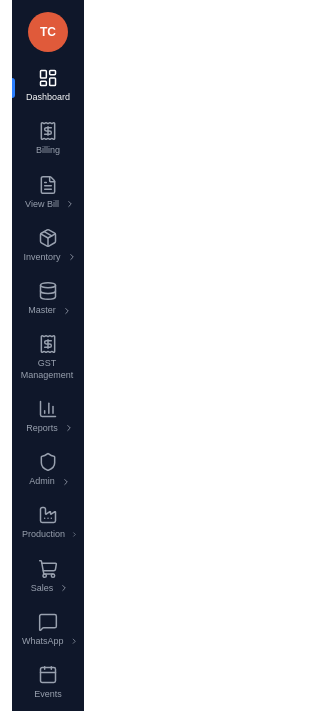
it: Sidebar - Desktop rail › hides submenu after mouseleave + delay
The image size is (332, 711).
// Hover in
Hover over the text "View Bill": (48, 192) [12,166,84,218]
Wait 50 ms
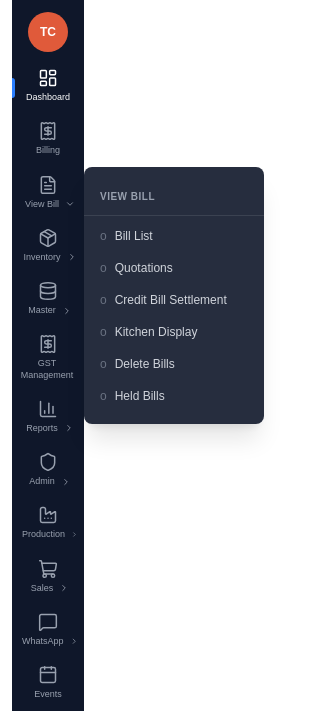
Check: the link "oBill List" is shown, box [100,228,153,242]
// Hover out
Move the pointer off the text "View Bill" below "Billing", box [12,166,84,218]
Wait 250 ms
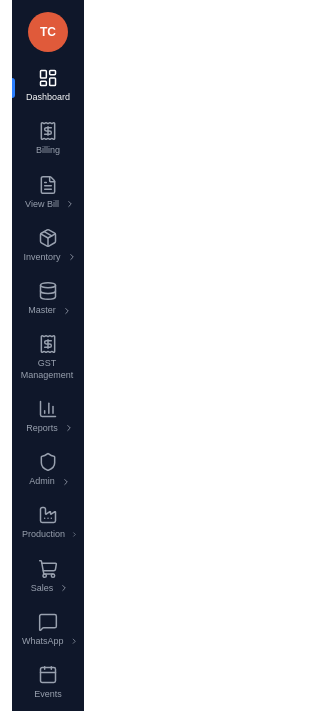
Check: the link "Bill List" is gone
